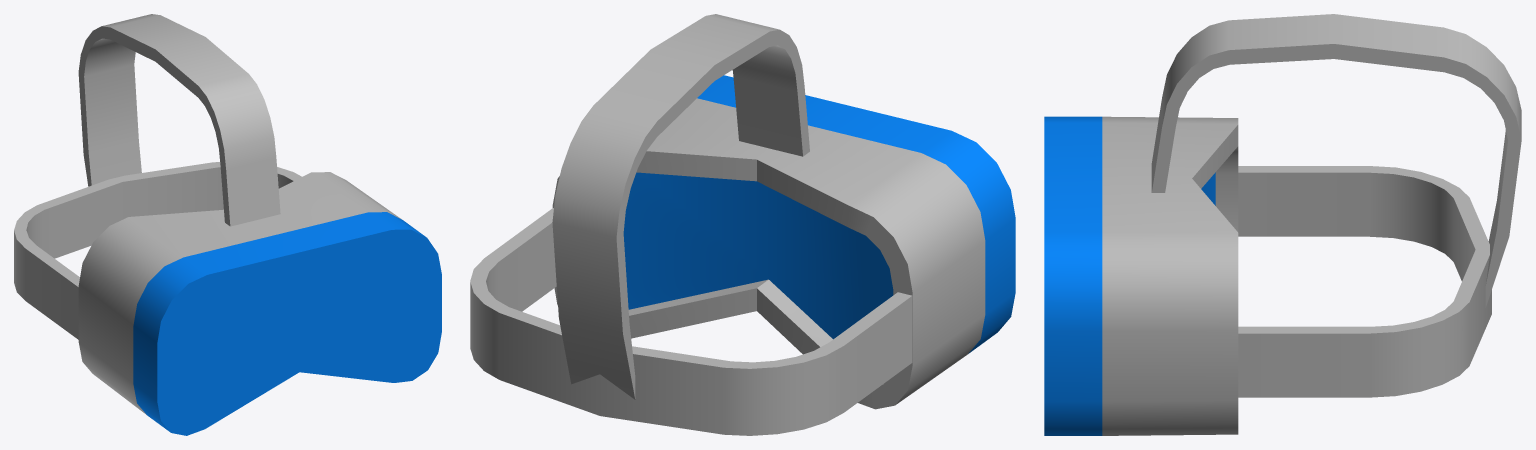
The model's file is vrGozluk.fbx.
3 renders of one model, left to right at view 1: azimuth 30°, elevation 25°; view 2: azimuth 150°, elevation 25°; view 3: azimuth 270°, elevation 25°, orthographic. The views are drawn at different scales.
Parts seen in each view (by area): view 1: vrGozluk; view 2: vrGozluk; view 3: vrGozluk.
Part boxes in pixels (x1,y1,x2,y2): vrGozluk: (14, 14, 441, 435); vrGozluk: (470, 14, 1015, 435); vrGozluk: (1044, 14, 1521, 435).
Bounding box in the file's own units: 210 × 196 × 251.
